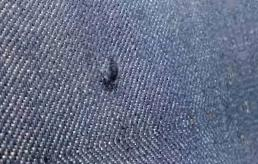knot: (93, 54, 119, 92)
